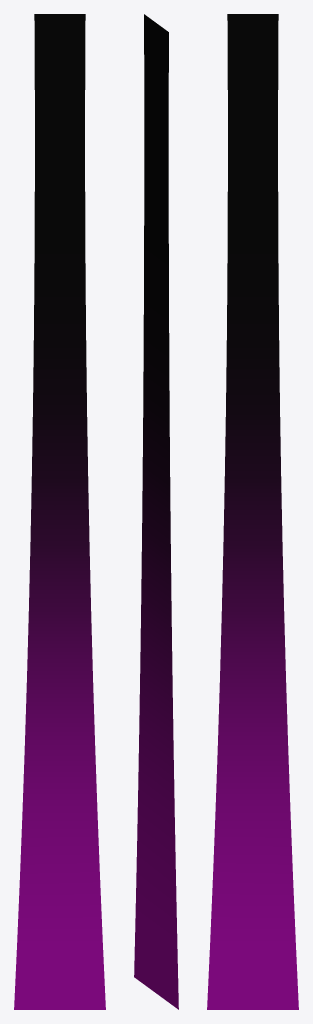
Rendered from curtains.fbx.
3 renders of one model, left to right at view 1: azimuth 90°, elevation 25°; view 2: azimuth 210°, elevation 25°; view 3: azimuth 270°, elevation 25°, orthographic. The views are drawn at different scales.
Visible parts, largest first — view 1: Plane001; view 2: Plane001; view 3: Plane001.
Part boxes in pixels (x1=…): Plane001: x1=14, y1=14, x2=105, y2=1009; Plane001: x1=134, y1=14, x2=178, y2=1009; Plane001: x1=207, y1=14, x2=298, y2=1009.
Bounding box in the file's own units: 3.43e-07 × 93.82 × 7.85.
